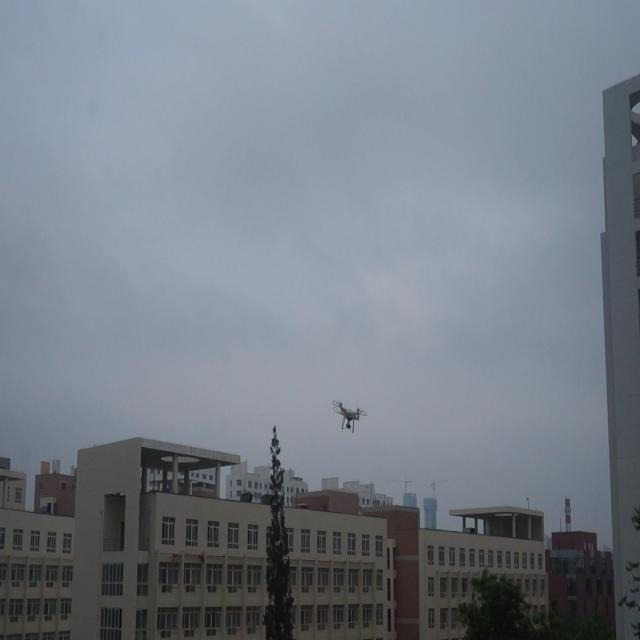UAV: (332, 400, 367, 433)
